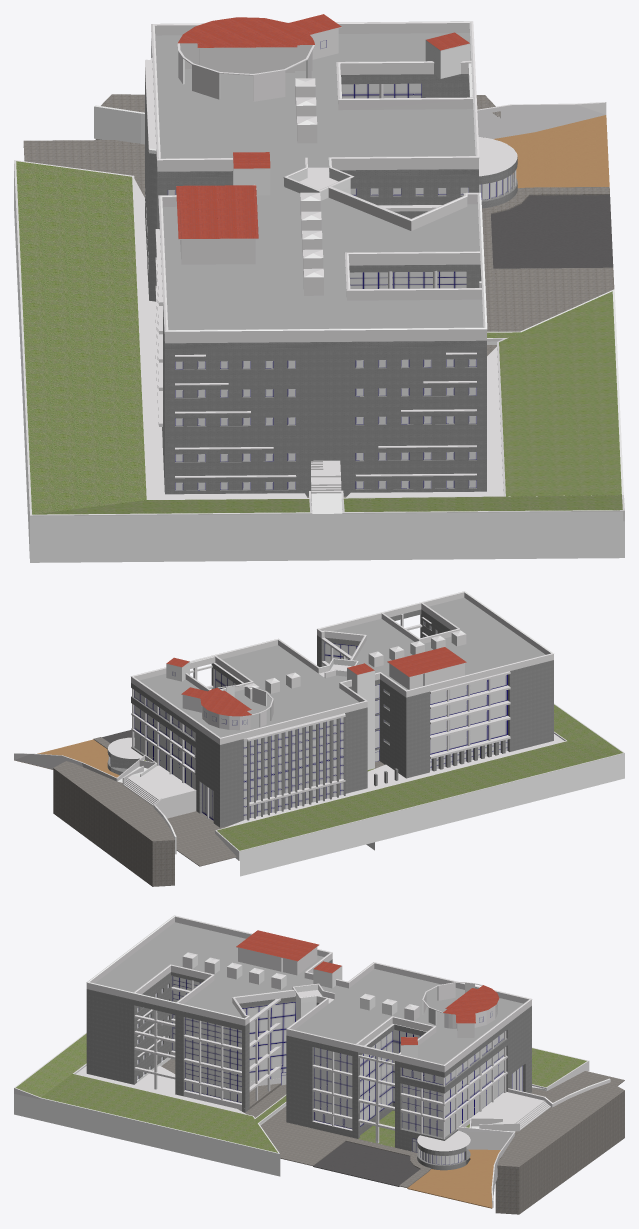
The model's file is BiblioExteriorUnity_0.fbx.
3 views of the same model, one above another, from view 1: azimuth 30°, elevation 25°; view 2: azimuth 150°, elevation 25°; view 3: azimuth 270°, elevation 25° (orthographic). The views are drawn at different scales.
Visible parts, largest first — view 1: CityEngineShapeMaterial_11_m, CityEngineShapeMaterial_3_m, CityEngineShapeMaterial_8_m, CityEngineShapeMaterial_12_m, CityEngineShapeMaterial_10_m, CityEngineShapeMaterial_9_m, CityEngineShapeMaterial_13_m, CityEngineShapeMaterial_1_m, CityEngineShapeMaterial_m, CityEngineShapeMaterial_6_m, CityEngineShapeMaterial_2_m; view 2: CityEngineShapeMaterial_8_m, CityEngineShapeMaterial_3_m, CityEngineShapeMaterial_10_m, CityEngineShapeMaterial_12_m, CityEngineShapeMaterial_9_m, CityEngineShapeMaterial_11_m, CityEngineShapeMaterial_2_m, CityEngineShapeMaterial_7_m, CityEngineShapeMaterial_6_m, CityEngineShapeMaterial_13_m, CityEngineShapeMaterial_m; view 3: CityEngineShapeMaterial_8_m, CityEngineShapeMaterial_3_m, CityEngineShapeMaterial_9_m, CityEngineShapeMaterial_12_m, CityEngineShapeMaterial_11_m, CityEngineShapeMaterial_10_m, CityEngineShapeMaterial_2_m, CityEngineShapeMaterial_6_m, CityEngineShapeMaterial_13_m, CityEngineShapeMaterial_m, CityEngineShapeMaterial_1_m, CityEngineShapeMaterial_7_m.
Boxes of the visible parts, box(x1,y1,x2,y2) form: CityEngineShapeMaterial_11_m: box(16, 161, 622, 514); CityEngineShapeMaterial_3_m: box(145, 41, 517, 496); CityEngineShapeMaterial_8_m: box(14, 21, 624, 521); CityEngineShapeMaterial_12_m: box(155, 33, 483, 329); CityEngineShapeMaterial_10_m: box(14, 41, 624, 562); CityEngineShapeMaterial_9_m: box(23, 94, 614, 497); CityEngineShapeMaterial_13_m: box(176, 14, 469, 238); CityEngineShapeMaterial_1_m: box(491, 195, 613, 268); CityEngineShapeMaterial_m: box(493, 115, 609, 188); CityEngineShapeMaterial_6_m: box(167, 40, 513, 490); CityEngineShapeMaterial_2_m: box(341, 83, 466, 288); CityEngineShapeMaterial_8_m: box(14, 591, 624, 860); CityEngineShapeMaterial_3_m: box(107, 609, 553, 827); CityEngineShapeMaterial_10_m: box(109, 591, 624, 876); CityEngineShapeMaterial_12_m: box(139, 597, 545, 737); CityEngineShapeMaterial_9_m: box(53, 737, 384, 886); CityEngineShapeMaterial_11_m: box(144, 704, 622, 850); CityEngineShapeMaterial_2_m: box(215, 643, 507, 819); CityEngineShapeMaterial_7_m: box(202, 674, 507, 820); CityEngineShapeMaterial_6_m: box(110, 621, 437, 789); CityEngineShapeMaterial_13_m: box(166, 647, 466, 716); CityEngineShapeMaterial_m: box(14, 739, 119, 777); CityEngineShapeMaterial_8_m: box(14, 915, 610, 1207); CityEngineShapeMaterial_3_m: box(86, 959, 531, 1170); CityEngineShapeMaterial_9_m: box(161, 1059, 624, 1214); CityEngineShapeMaterial_12_m: box(95, 922, 522, 1064); CityEngineShapeMaterial_11_m: box(16, 1033, 586, 1152); CityEngineShapeMaterial_10_m: box(14, 915, 609, 1176); CityEngineShapeMaterial_2_m: box(172, 976, 420, 1126); CityEngineShapeMaterial_6_m: box(137, 984, 503, 1164); CityEngineShapeMaterial_13_m: box(236, 930, 499, 1045); CityEngineShapeMaterial_m: box(407, 1149, 500, 1208); CityEngineShapeMaterial_1_m: box(313, 1141, 419, 1186); CityEngineShapeMaterial_7_m: box(314, 1066, 522, 1128).
Bounding box in the file's own units: 146 × 54.67 × 160.
